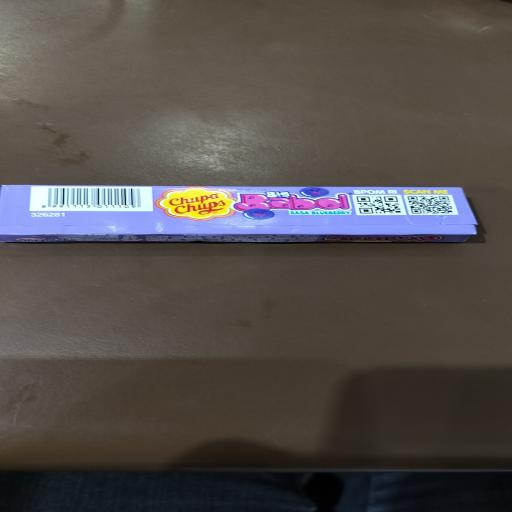chocolate: (34, 184, 472, 242)
chupa-chups: (148, 187, 237, 219)
